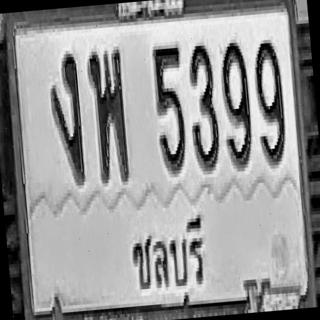A07: (46, 50, 86, 184)
A30: (86, 46, 131, 184)
N03: (184, 41, 221, 172)
N05: (150, 41, 190, 175)
N09: (218, 38, 254, 169), (252, 37, 288, 164)
P13: (124, 202, 211, 318)
